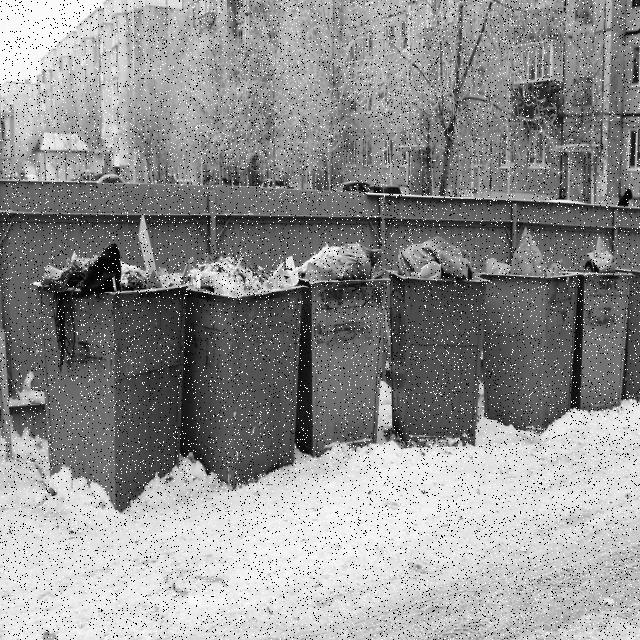Trashcan: (32, 215, 196, 514), (177, 183, 306, 508), (287, 216, 396, 469), (377, 233, 491, 467), (476, 226, 582, 449), (563, 215, 640, 434)
